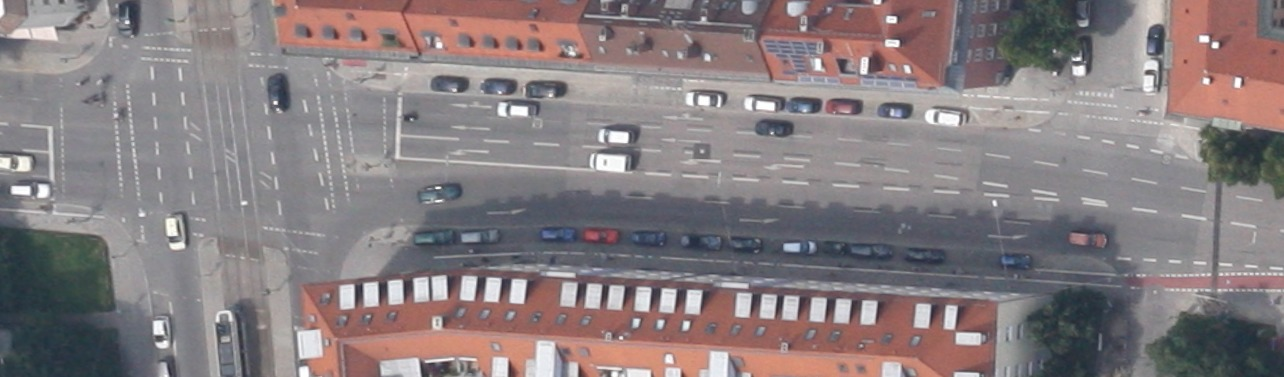car: (265, 72, 291, 112), (416, 182, 461, 205), (923, 107, 967, 127), (163, 213, 185, 251), (754, 118, 793, 137), (9, 181, 51, 198), (429, 74, 468, 92), (905, 246, 944, 264), (681, 233, 722, 250), (1068, 230, 1108, 247), (413, 229, 455, 245), (525, 80, 564, 97), (117, 4, 136, 38), (1142, 59, 1161, 93), (496, 101, 536, 117), (850, 243, 892, 258), (1070, 40, 1087, 76), (151, 316, 170, 348), (632, 228, 665, 246), (728, 235, 761, 253), (685, 91, 722, 107), (480, 77, 514, 94), (826, 98, 862, 114), (597, 128, 635, 143), (743, 96, 781, 111), (877, 101, 912, 117), (540, 226, 575, 242), (1146, 23, 1164, 54), (1000, 252, 1031, 270), (460, 228, 499, 242), (782, 239, 816, 255), (582, 228, 618, 243), (788, 97, 819, 112), (822, 239, 847, 256), (1077, 1, 1090, 26)
